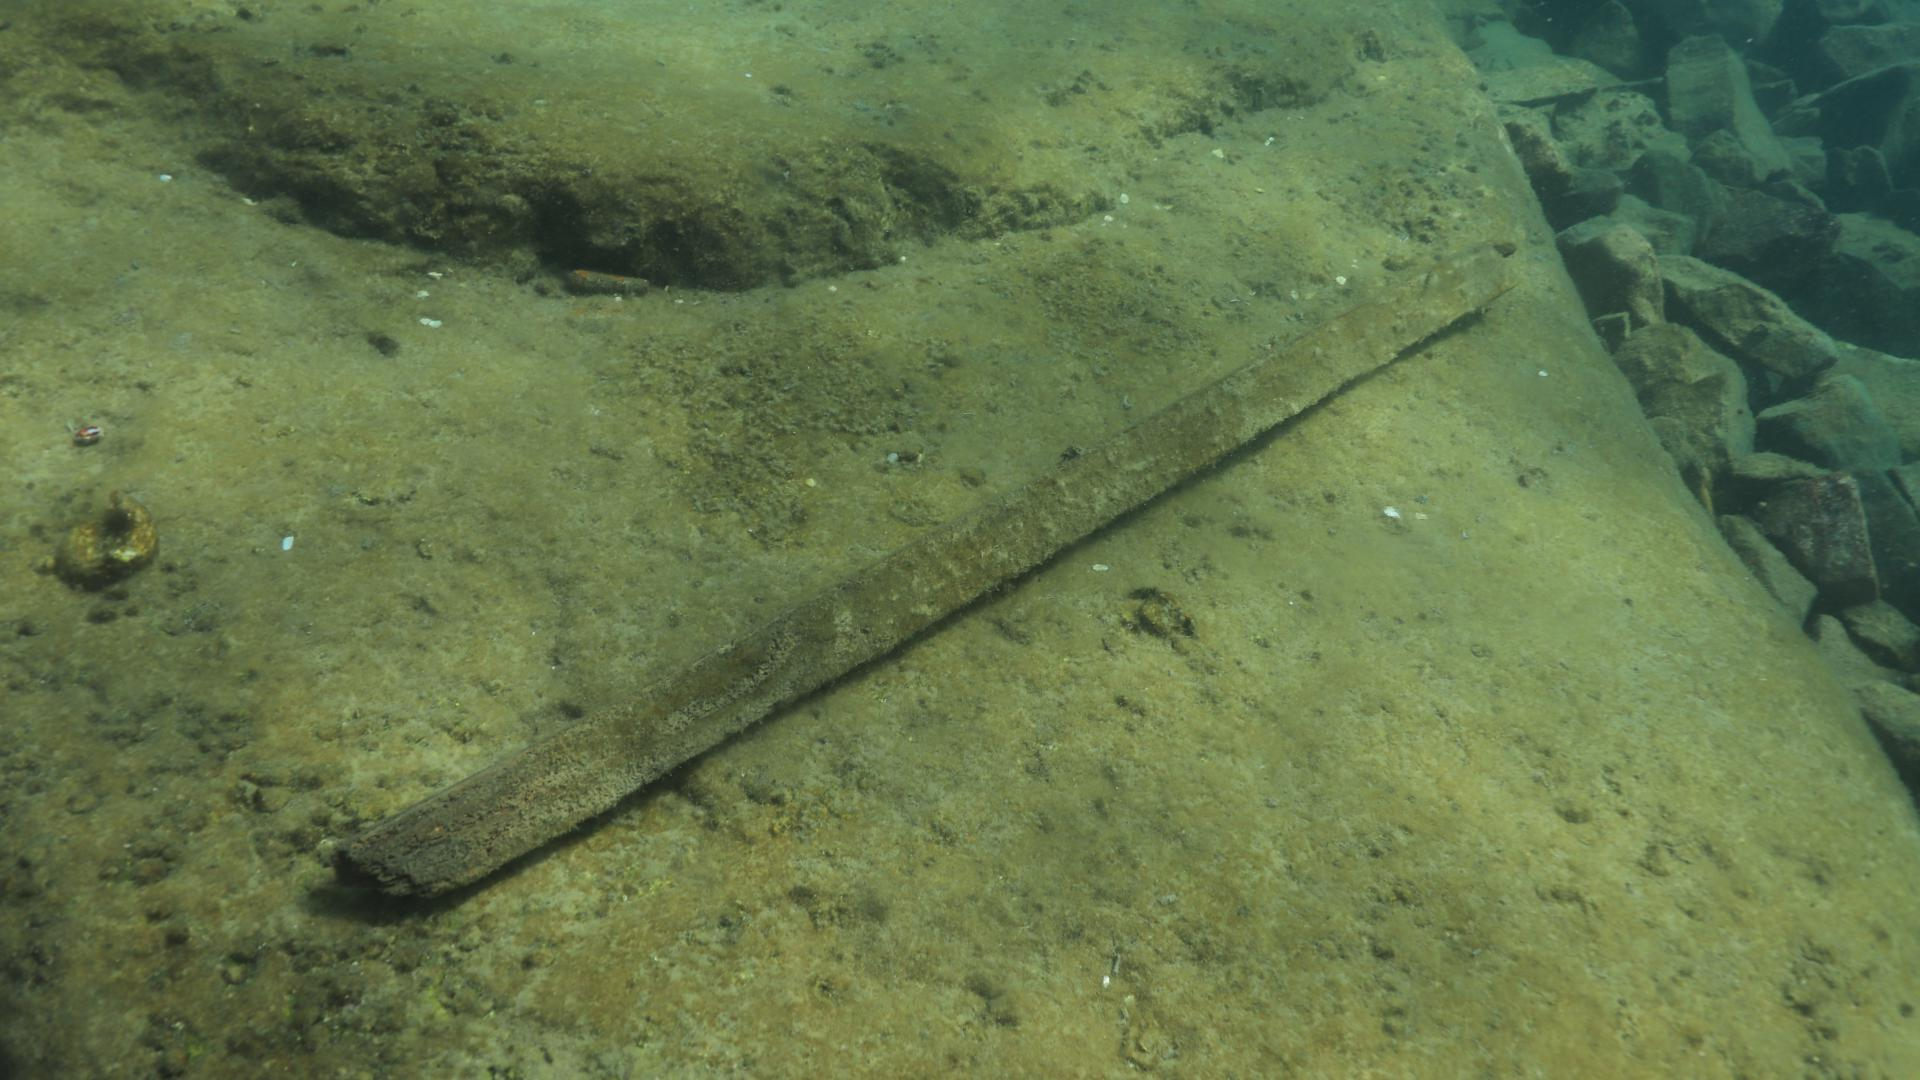wood: (323, 237, 1522, 903)
